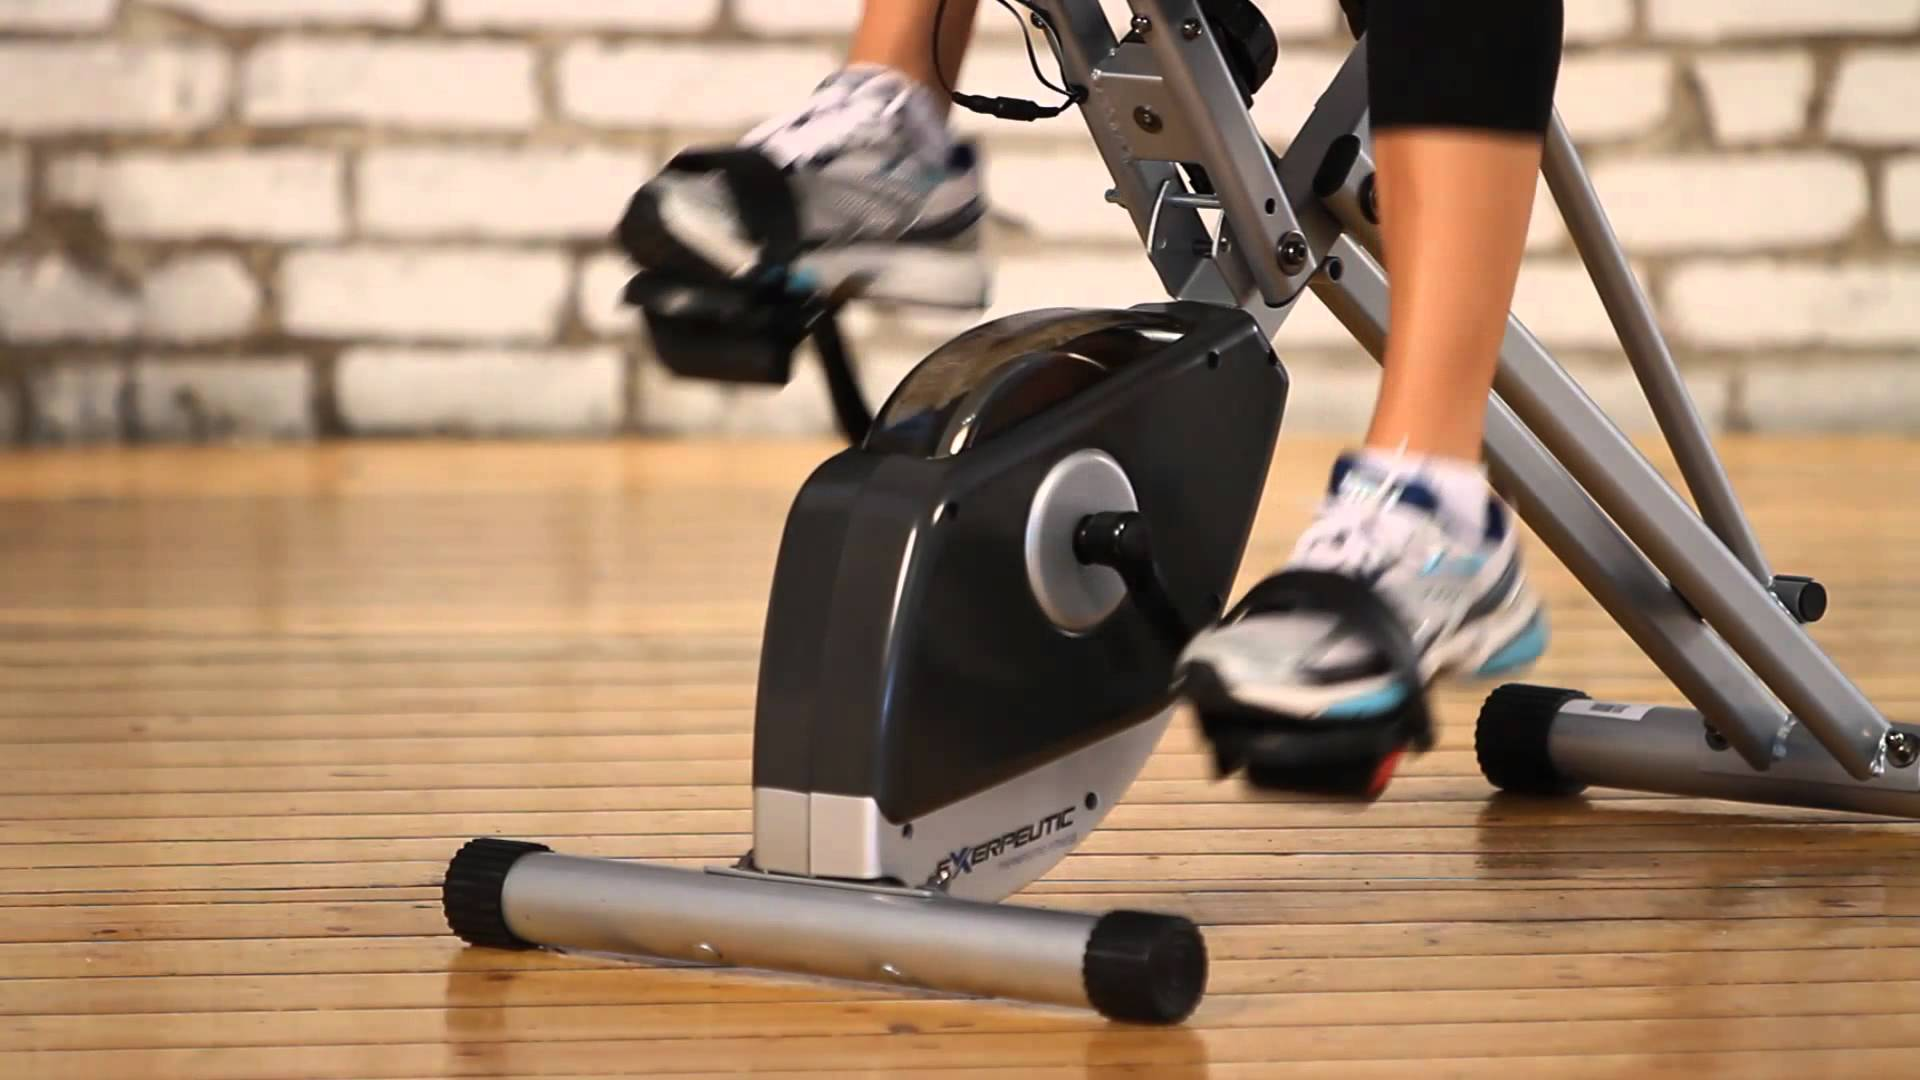gym_bike: (496, 113, 1414, 1064)
